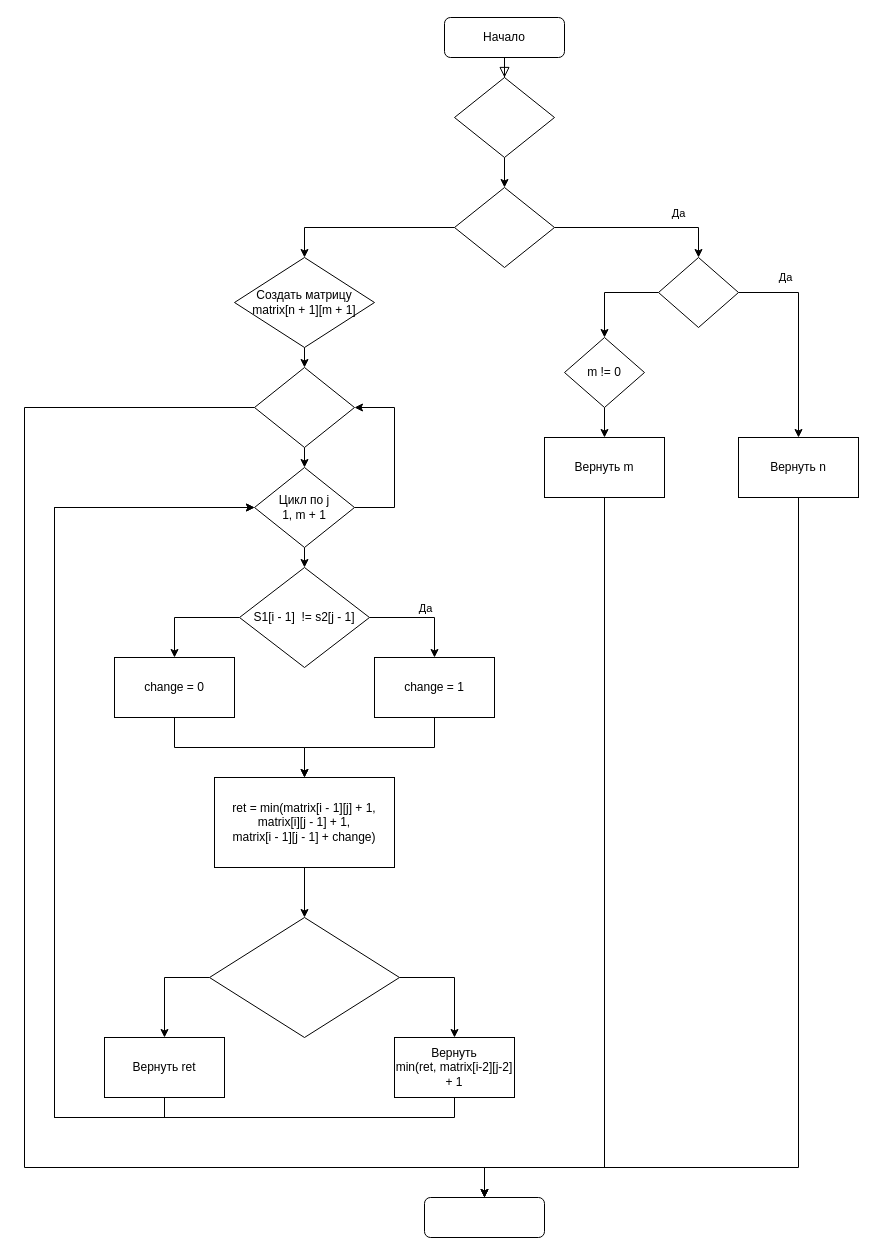
Some shapes in this 876 by 1255 pixel diagram are drawn without their labels. Each missing label, with the centre of its shape:
"(i > 1 и j > 1), s1[i - 1] == s2[j - 2], str1[i-2] == str2[j-1]" belongs at [304,977].
"n != 0" belongs at [698,292].
"n = длина s1 m = длина s2" belongs at [504,117].
"n == 0 или m == 0" belongs at [504,227].
"Конец" belongs at [484,1217].
"Цикл по i 1, n + 1" belongs at [304,407].
